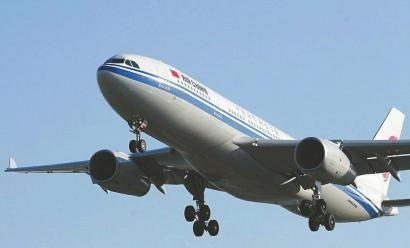airplane: (1, 51, 410, 236)
